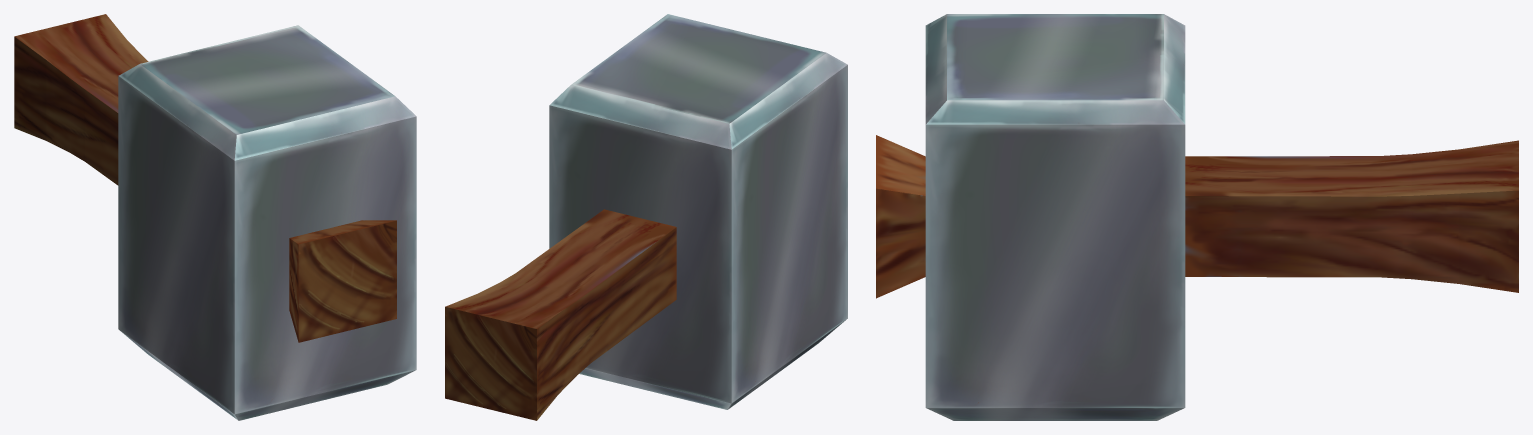
Rendered from hummer.fbx.
The picture shows the model from 3 angles, left to right: view 1: azimuth 30°, elevation 25°; view 2: azimuth 150°, elevation 25°; view 3: azimuth 270°, elevation 25°; orthographic projection. The views are drawn at different scales.
Parts seen in each view (by area): view 1: Cube; view 2: Cube; view 3: Cube.
Part boxes in pixels (<box>): Cube: <box>14,14,416,420</box>; Cube: <box>445,14,847,420</box>; Cube: <box>876,14,1518,420</box>.
Size of the model in its own units: 150 by 228 by 411.
1 material, 1 textured.
